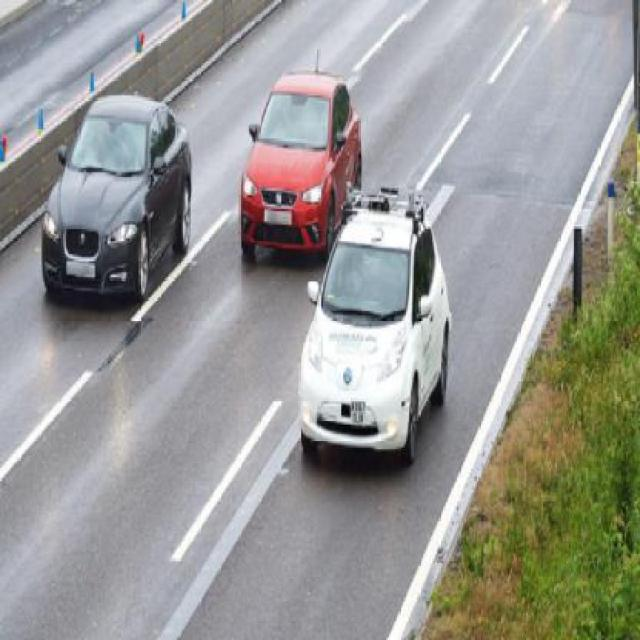car: (238, 74, 358, 266)
